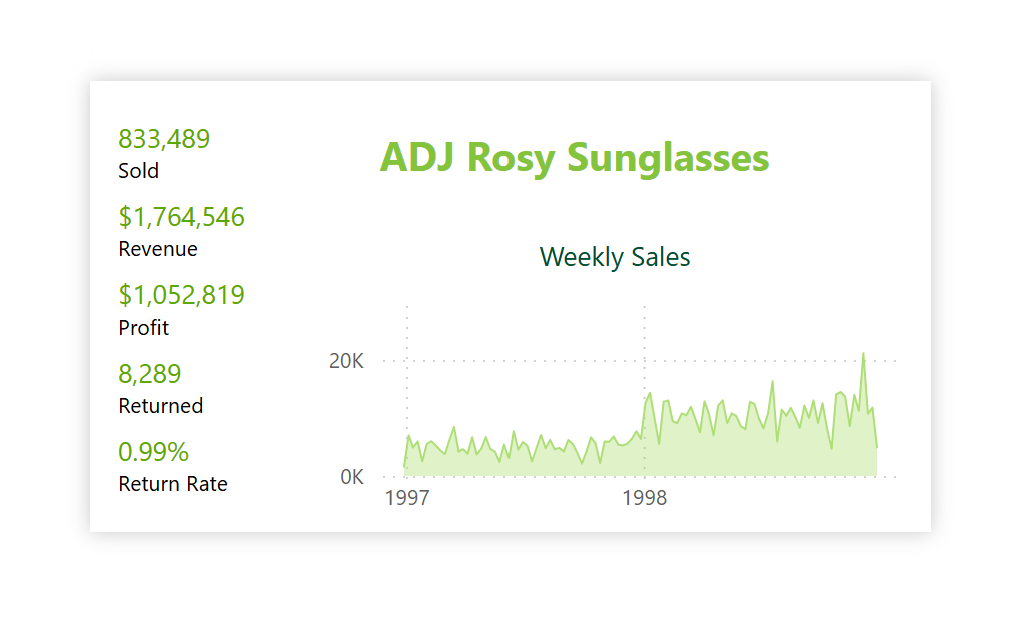

The page's visual inventory and layout, read from the dashboard file:
{"tool":"powerbi","page":{"name":"Product Tooltip","canvas":[420,225],"ordinal":4},"visuals":[{"type":"areaChart","title":"Weekly Sales","fields":{"Y":["Measure Table.Total Quantity Sold"],"Category":["Calendar.Start of Week"]},"box":[114,78,296,147],"z":0},{"type":"card","fields":{"Values":["Min(Products.product_name)"]},"box":[74,0,336,78],"z":1000},{"type":"multiRowCard","fields":{"Values":["Measure Table.Total Quantity Sold","Measure Table.Total Revenue","Measure Table.Total Profit","Measure Table.Total Quantity Returned","Measure Table.Return Rate"]},"box":[9,14,105,198],"z":2000}]}

Visuals, with their boxes on the page's 420x225 design canvas (x1, y1, x2, y2). These are canvas units, not pixel positions in the 1012x626 screenshot, which may show the page scaled, cropped or inside an application window:
"Weekly Sales" areaChart: detection(114, 78, 410, 225)
card - Min(Products.product_name): detection(74, 0, 410, 78)
multiRowCard - Measure Table.Total Quantity Sold x Measure Table.Total Revenue: detection(9, 14, 114, 212)
